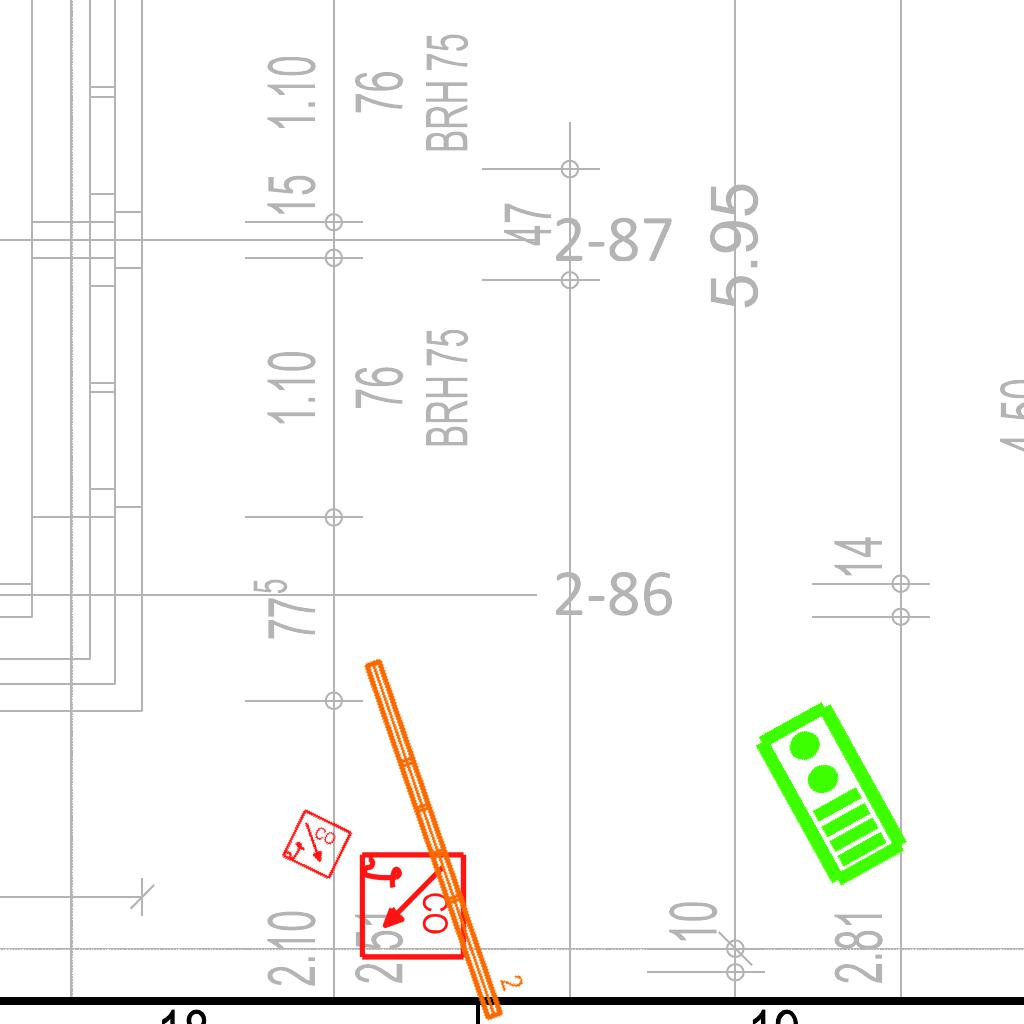Ambulanz_Pendelleuchte_LED: (356, 642, 535, 1024)
Gegensprechanlage_mit_Video: (745, 694, 914, 894)
ROA_Rauchmelder_optisch_mit_Signalgeber_(Sockelsirene): (355, 850, 468, 963), (279, 807, 355, 883)
